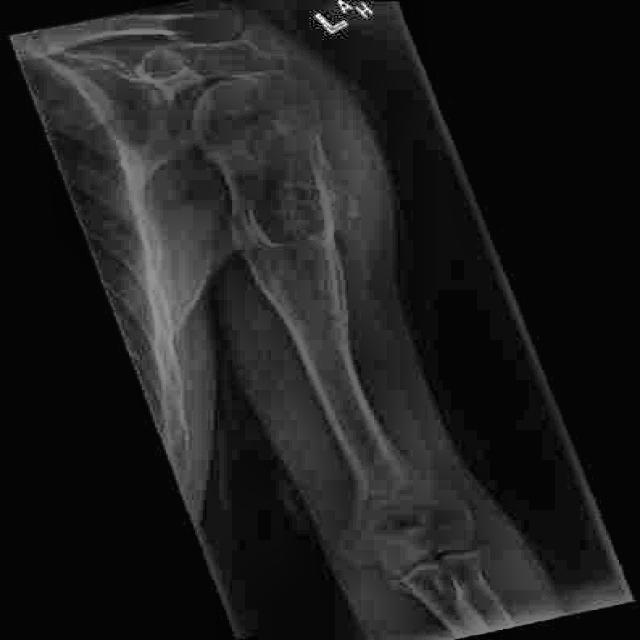humerus: (281, 111, 360, 188)
